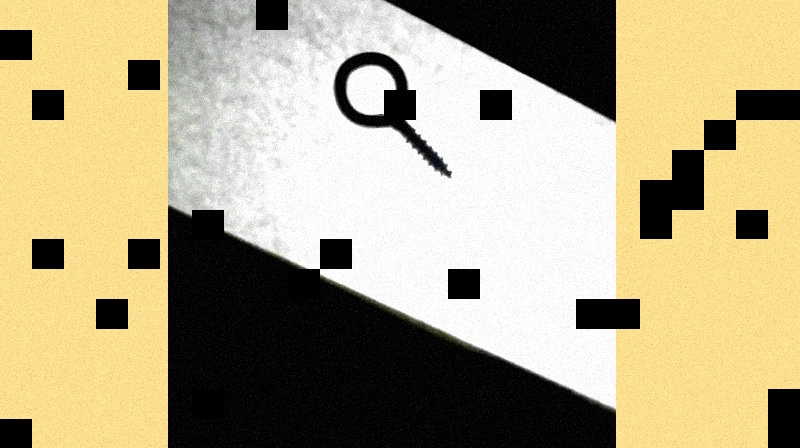O001: (330, 47, 452, 180)
